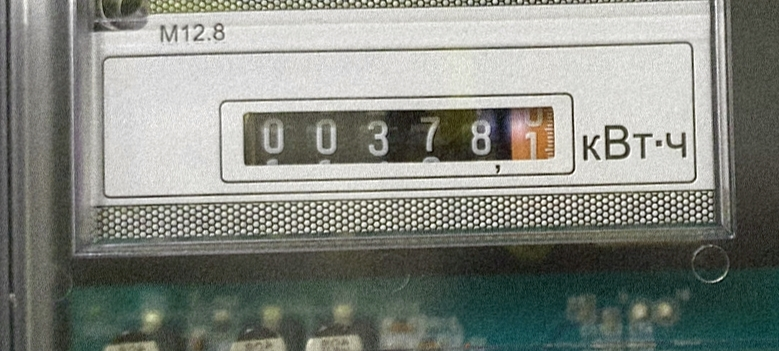0: (257, 116, 285, 157), (310, 118, 335, 157), (519, 107, 541, 130)
1: (518, 130, 538, 162)
3: (361, 119, 388, 160)
7: (414, 116, 438, 155)
8: (465, 118, 490, 159)
screen: (218, 85, 572, 184)
